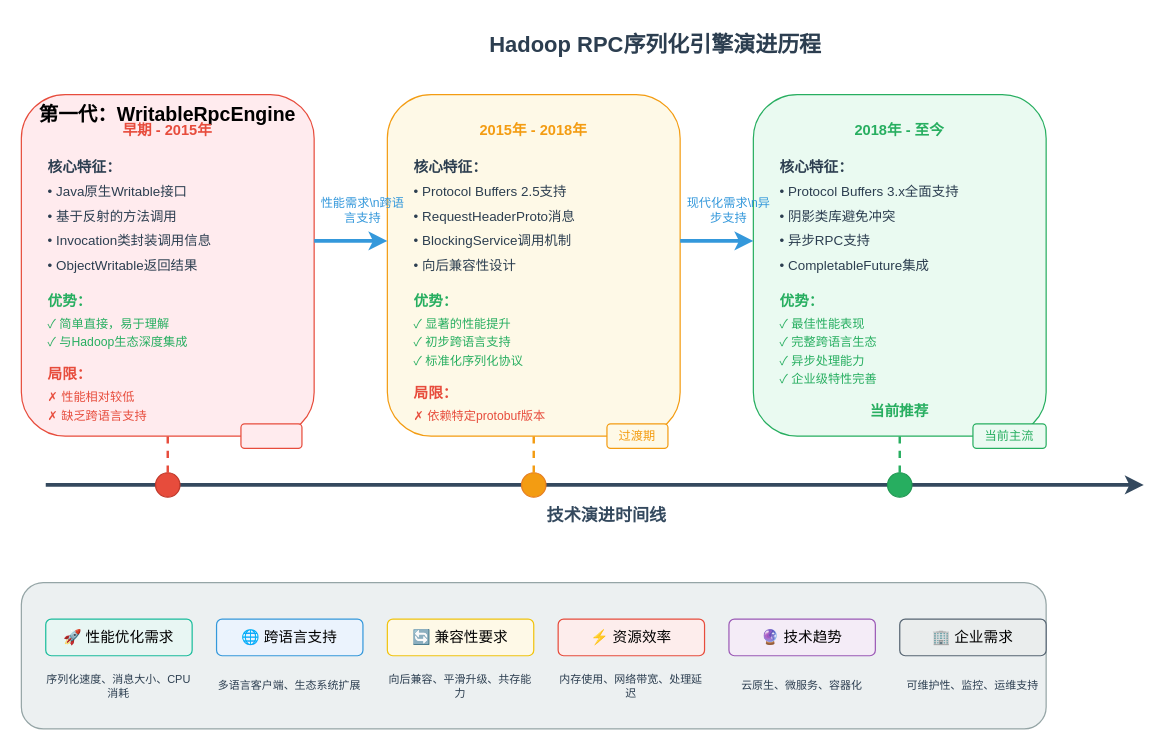
Image size: 1176x750. Some labels were removed from this diagram. Here are the shapes that lost their labels. From the top down, the box of each, then its label:
(386, 93, 680, 436): 第二代：ProtobufRpcEngine
(752, 93, 1046, 436): 第三代：ProtobufRpcEngine2
(240, 423, 302, 448): 已废弃
(20, 581, 1046, 729): 演进驱动力
